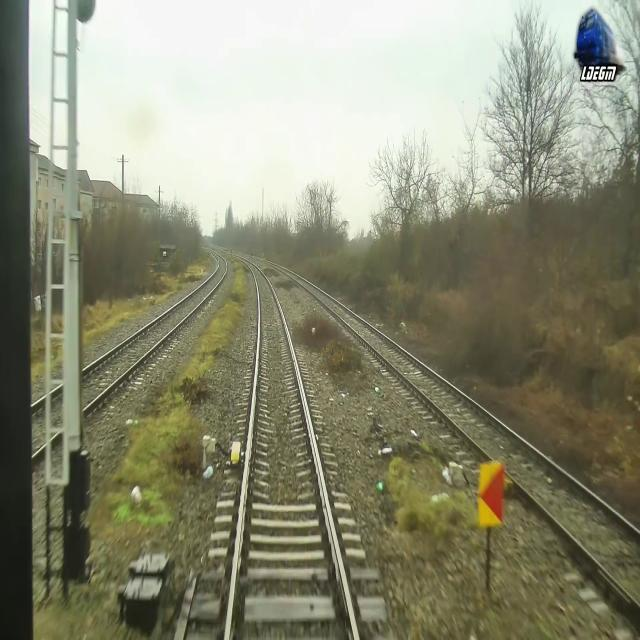rail-track: (284, 270, 640, 601), (229, 260, 355, 639), (82, 251, 226, 407), (0, 399, 43, 481)
